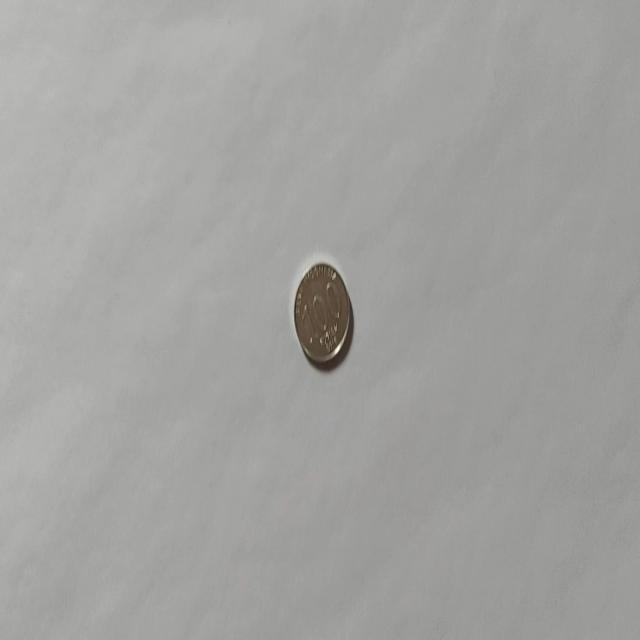seratus rupiah: (293, 260, 352, 364)
